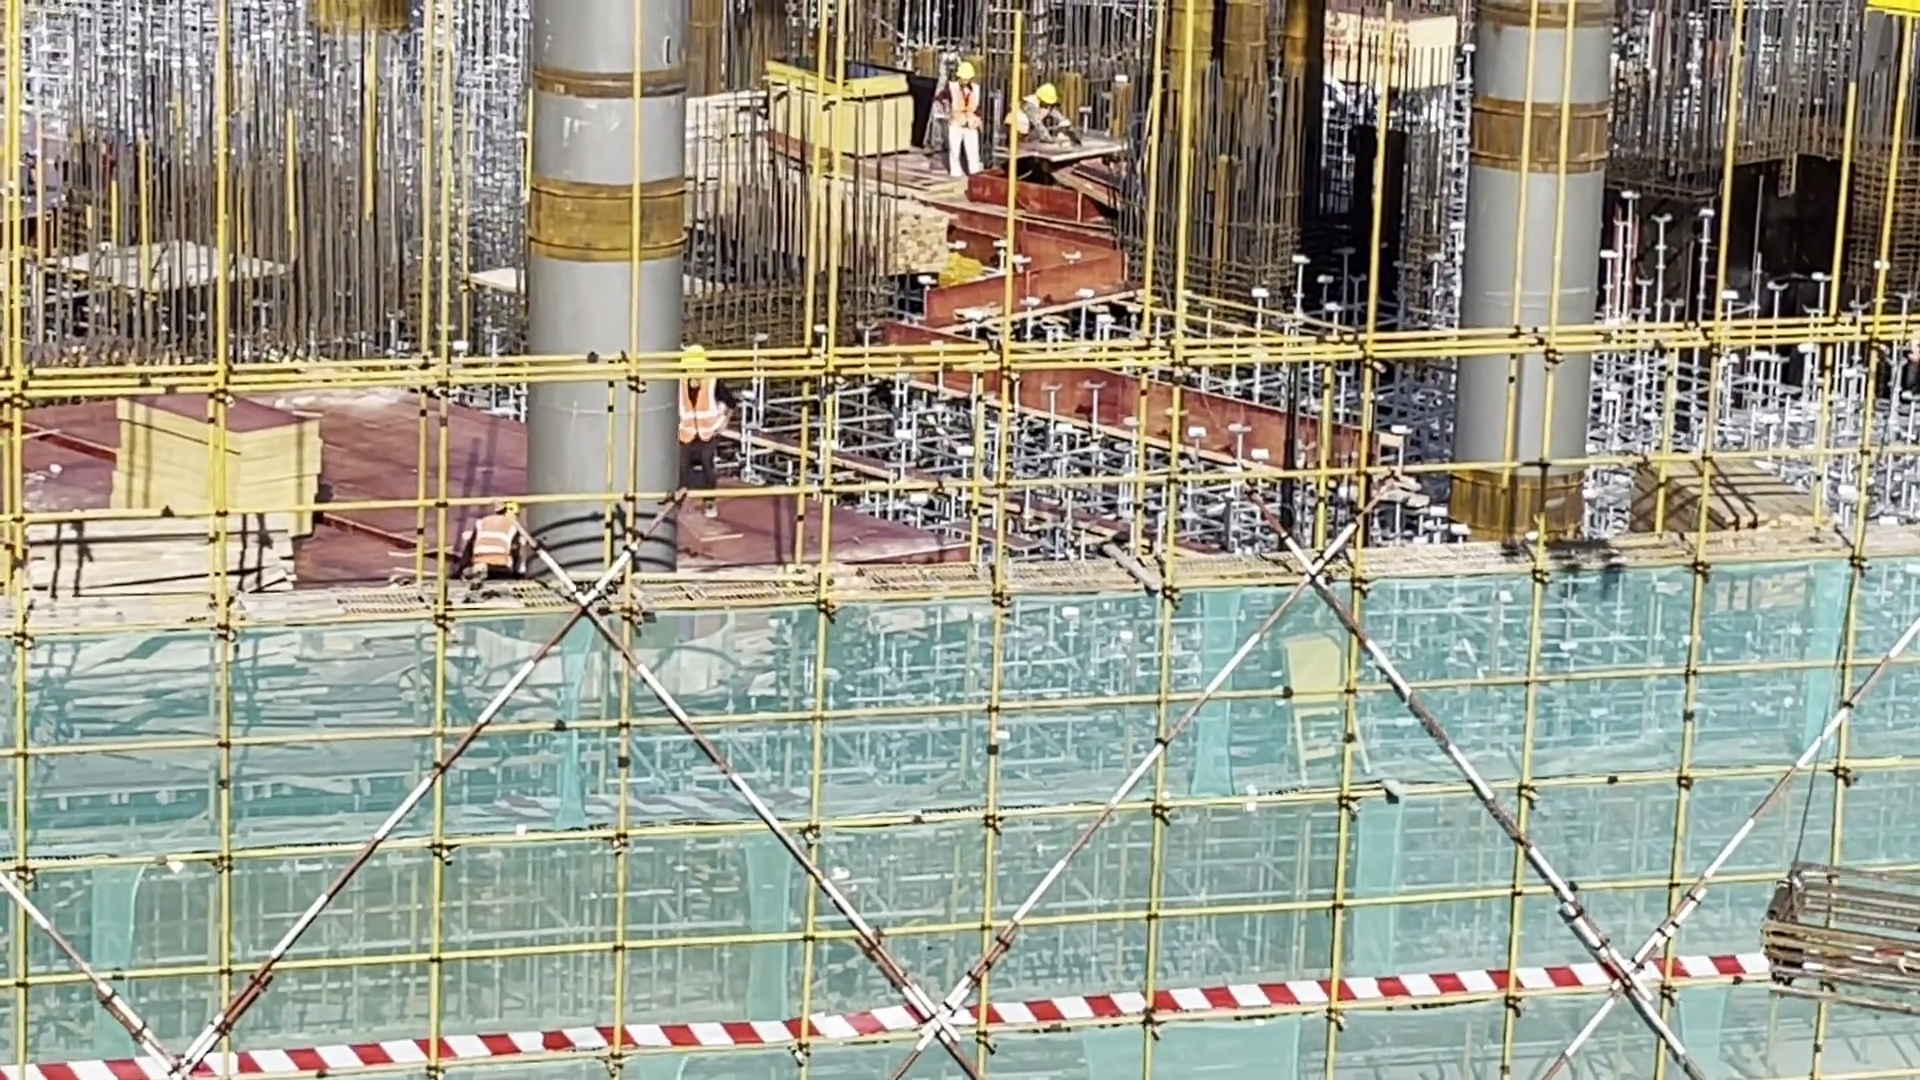board: (101, 391, 331, 552), (1636, 443, 1826, 570), (758, 52, 920, 159)
ebox: (1279, 619, 1363, 785)
helmet: (682, 342, 710, 378), (1028, 80, 1061, 111), (952, 59, 978, 87)
person: (668, 331, 744, 524), (458, 483, 533, 626), (933, 48, 998, 194), (990, 77, 1080, 168)
vest: (673, 374, 732, 443), (467, 514, 521, 584), (937, 79, 987, 134), (1003, 95, 1054, 140)
wood: (16, 513, 295, 639)
